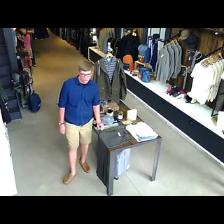person: (59, 61, 103, 184), (17, 28, 32, 62), (27, 28, 34, 51)
